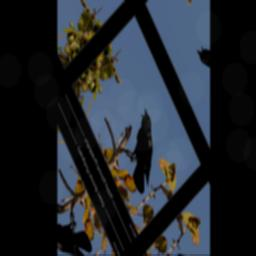Crow: (116, 107, 170, 196)
